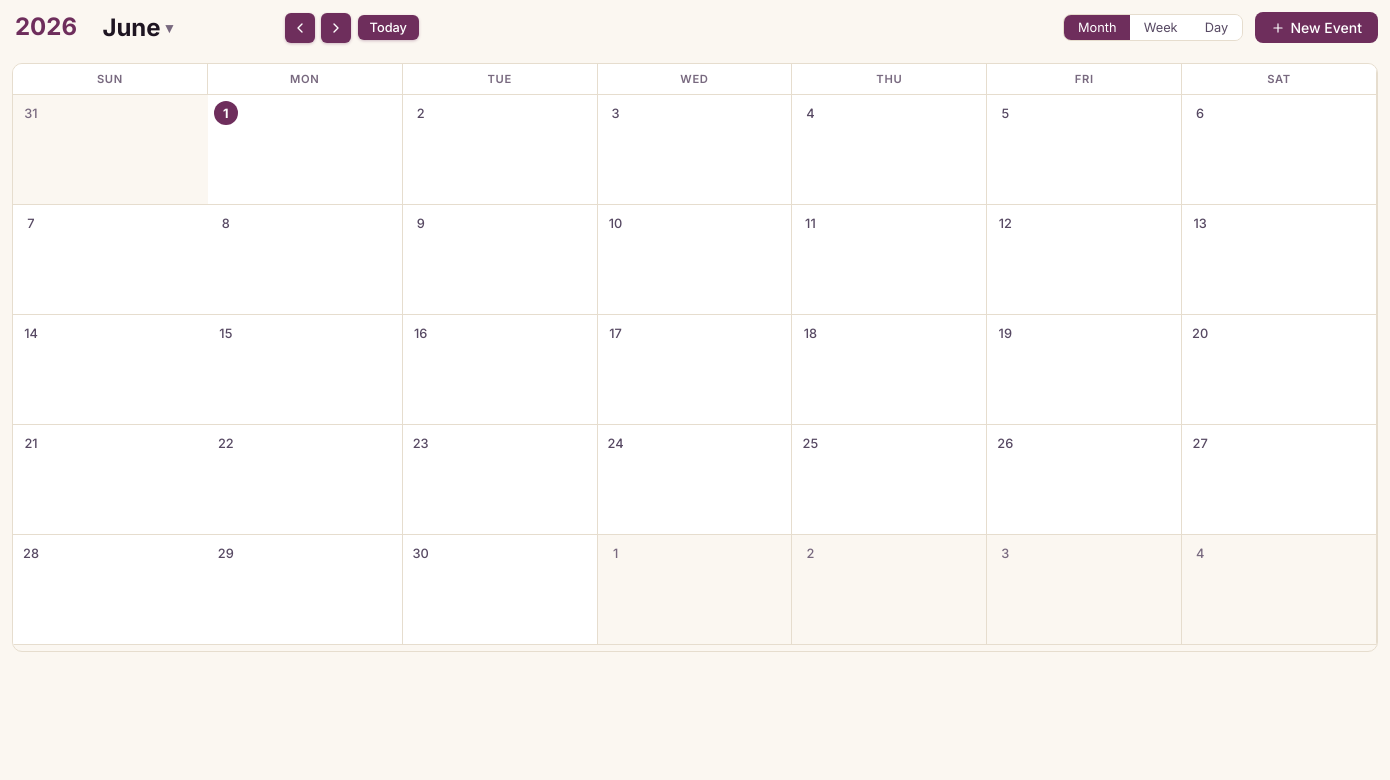
month dropdown opens when month button is clicked
Click the button with class "cal-month-btn": (182, 28) [102,13,262,42]
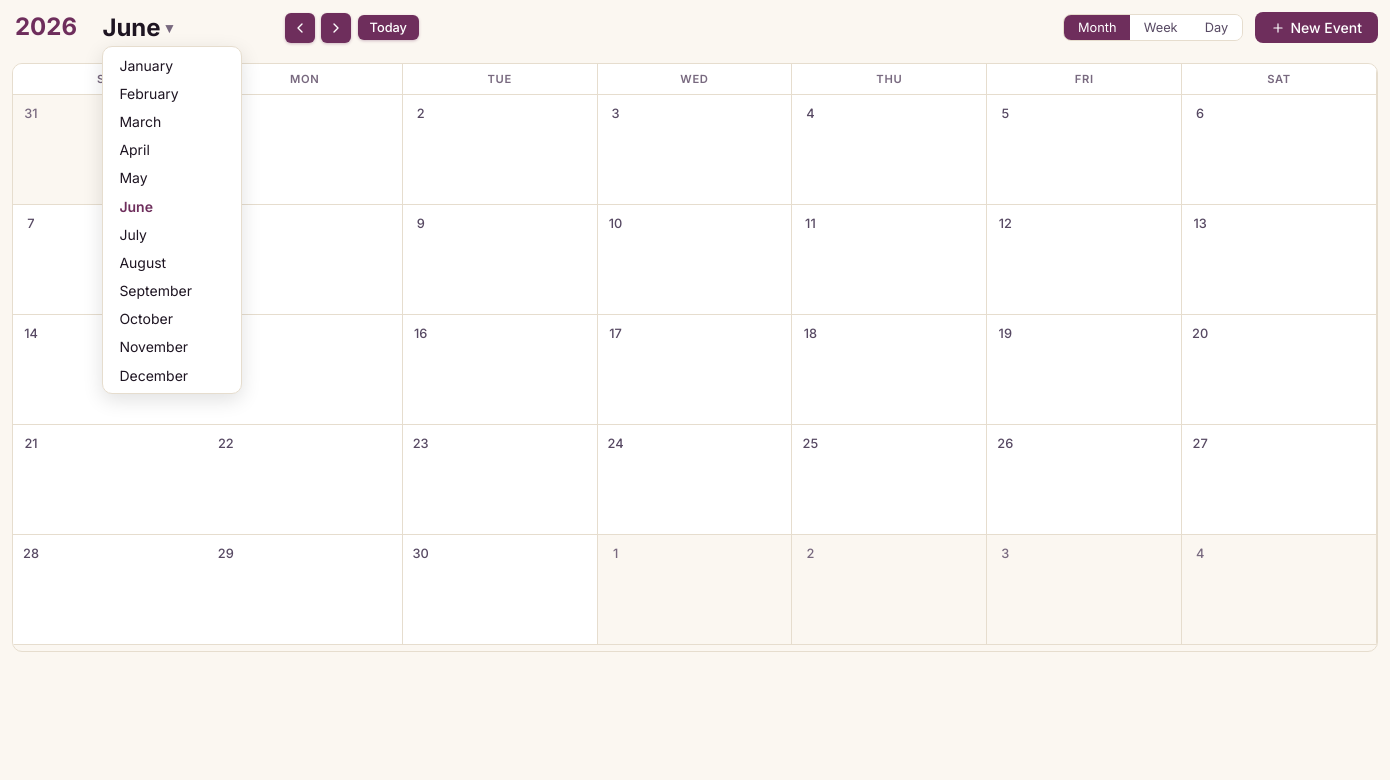
Expected: the element with class "cal-month-drop" is shown, [102,46,242,394]
